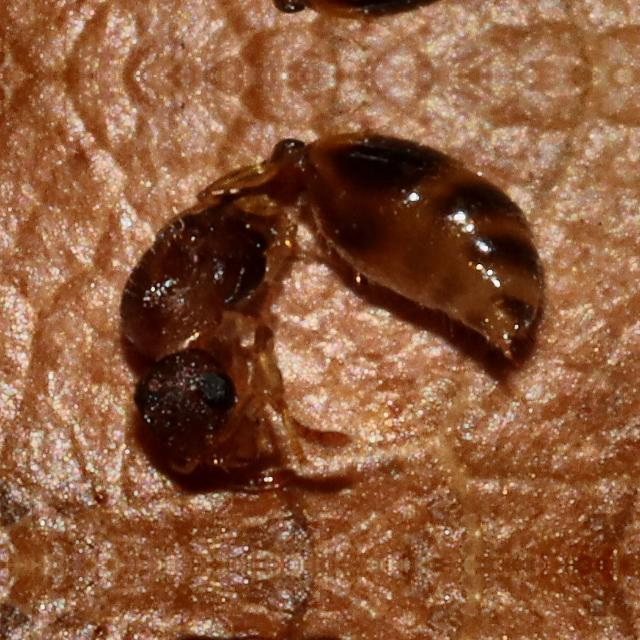Temnothorax: (34, 79, 624, 493)
